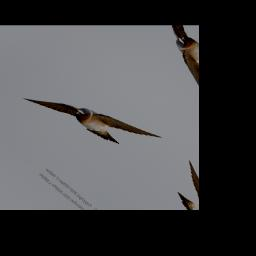Swallow: (23, 61, 165, 173)
